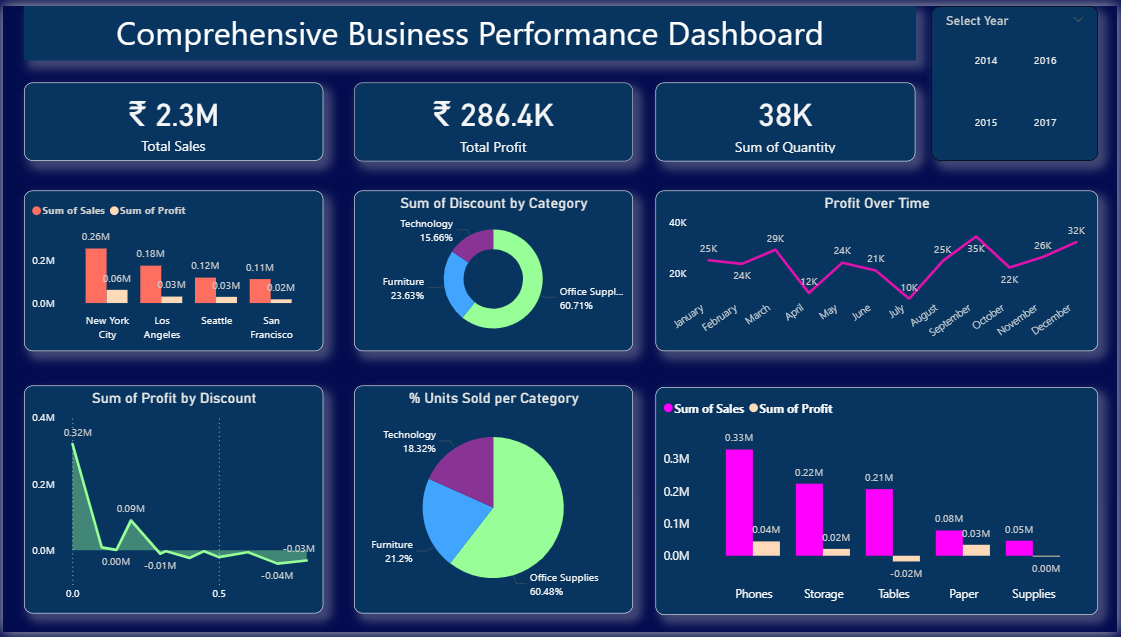

What the dashboard file says about the page in this screenshot:
{"tool":"powerbi","page":{"name":"Page 1","canvas":[1280,720],"ordinal":0},"visuals":[{"type":"clusteredColumnChart","title":"Sales per Sub-Category","fields":{"Y":["Sum(Sample - Superstore.Sales)","Sum(Sample - Superstore.Profit)"],"Category":["Sample - Superstore.Sub-Category"]},"box":[750.4,437.3,508.5,261.7],"z":0},{"type":"lineChart","title":"Profit Over Time","fields":{"Category":["Sample - Superstore.Order  Date.Variation.Date Hierarchy.Month"],"Y":["Sum(Sample - Superstore.Profit)"]},"box":[750.8,211.9,508.5,184.7],"z":1000},{"type":"slicer","fields":{"Values":["Sample - Superstore.Order  Date.Variation.Date Hierarchy.Year"]},"box":[1067.8,0,191.5,178],"z":2000},{"type":"pieChart","title":"% Units Sold per Category","fields":{"Category":["Sample - Superstore.Category"],"Y":["Sum(Sample - Superstore.Quantity)"]},"box":[403,436.6,320.7,261.9],"z":3000},{"type":"card","fields":{"Values":["Sample - Superstore.Total Profit"]},"box":[403,87.3,320.7,90.7],"z":4000},{"type":"card","fields":{"Values":["Sample - Superstore.Total Sales"]},"box":[23.7,88.1,344.1,89.8],"z":5000},{"type":"card","fields":{"Values":["Sum(Sample - Superstore.Quantity)"]},"box":[750.5,87.3,298.9,90.7],"z":6000},{"type":"donutChart","fields":{"Y":["Sum(Sample - Superstore.Discount)"],"Category":["Sample - Superstore.Category"]},"box":[403,211.6,320.7,184.7],"z":7000},{"type":"clusteredColumnChart","fields":{"Category":["Sample - Superstore.City"],"Y":["Sum(Sample - Superstore.Sales)","Sum(Sample - Superstore.Profit)"]},"box":[23.5,211.6,344.2,184.7],"z":8000},{"type":"areaChart","fields":{"Category":["Sample - Superstore.Discount"],"Y":["Sum(Sample - Superstore.Profit)"]},"box":[23.5,436.6,344.2,261.9],"z":9000},{"type":"textbox","box":[23.7,0,1025.4,62.7],"z":10000}]}

Visuals, with their boxes in screenshot pixels (x1, y1, x2, y2), scaled from the page's 1280x720 canvas onto the 1121x637 screenshot:
"Sales per Sub-Category" clusteredColumnChart: bbox=(657, 387, 1103, 618)
"Profit Over Time" lineChart: bbox=(658, 187, 1103, 351)
slicer - Sample - Superstore.Order  Date.Variation.Date Hierarchy.Year: bbox=(935, 0, 1103, 157)
"% Units Sold per Category" pieChart: bbox=(353, 386, 634, 618)
card - Sample - Superstore.Total Profit: bbox=(353, 77, 634, 157)
card - Sample - Superstore.Total Sales: bbox=(21, 78, 322, 157)
card - Sum(Sample - Superstore.Quantity): bbox=(657, 77, 919, 157)
donutChart - Sum(Sample - Superstore.Discount) x Sample - Superstore.Category: bbox=(353, 187, 634, 351)
clusteredColumnChart - Sample - Superstore.City x Sum(Sample - Superstore.Sales): bbox=(21, 187, 322, 351)
areaChart - Sample - Superstore.Discount x Sum(Sample - Superstore.Profit): bbox=(21, 386, 322, 618)
textbox: bbox=(21, 0, 919, 55)
